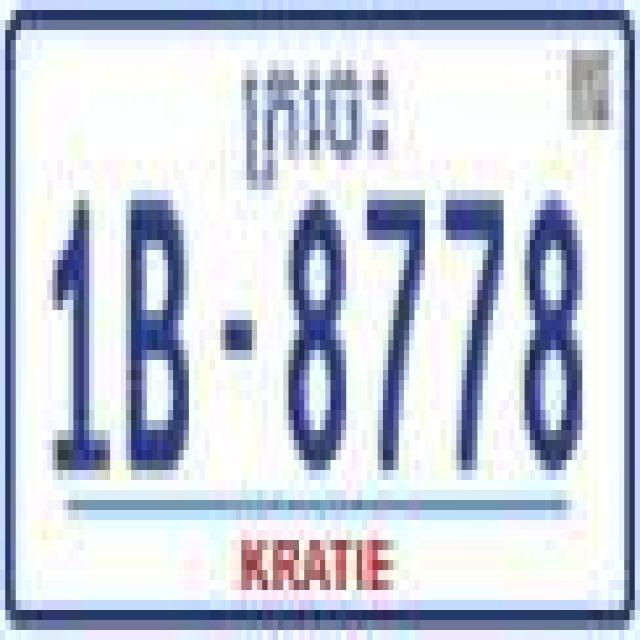Kratie: (242, 50, 394, 196)
